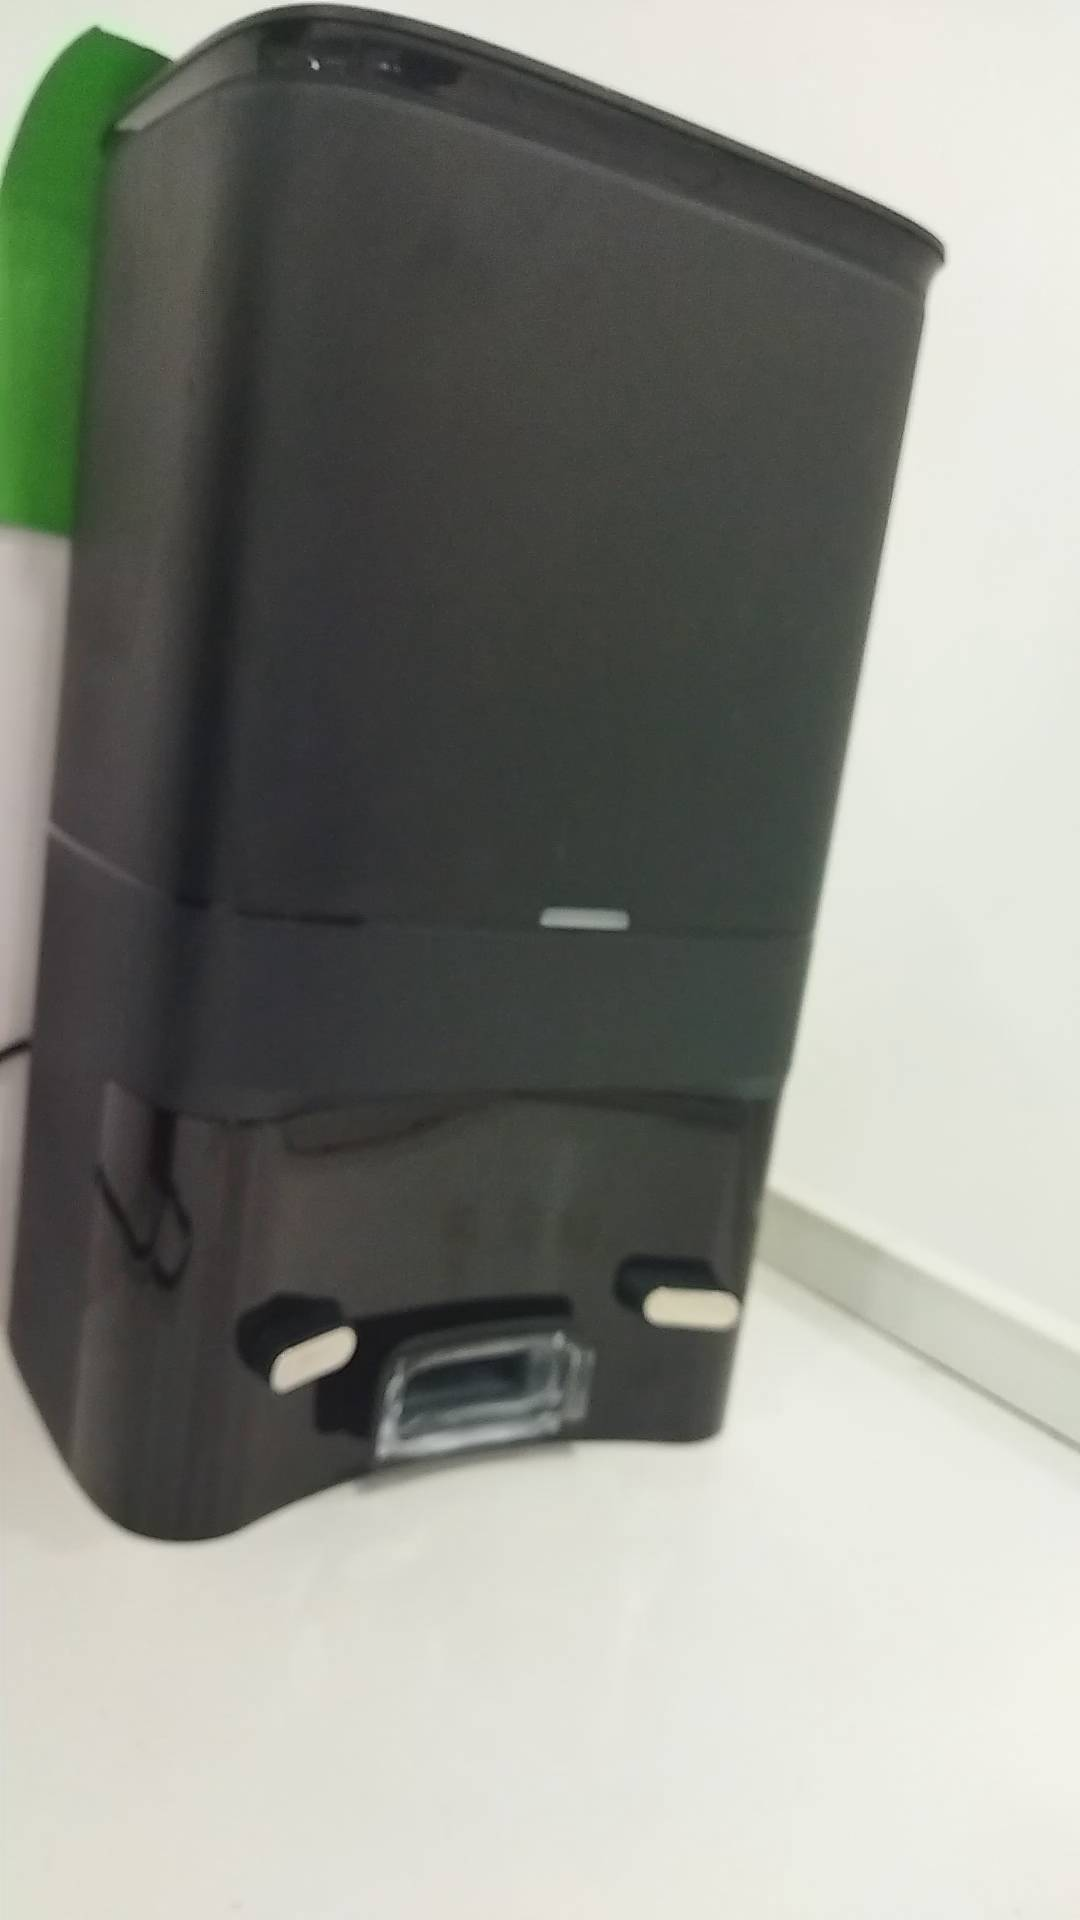dust collecting barrel: (11, 4, 943, 1548)
